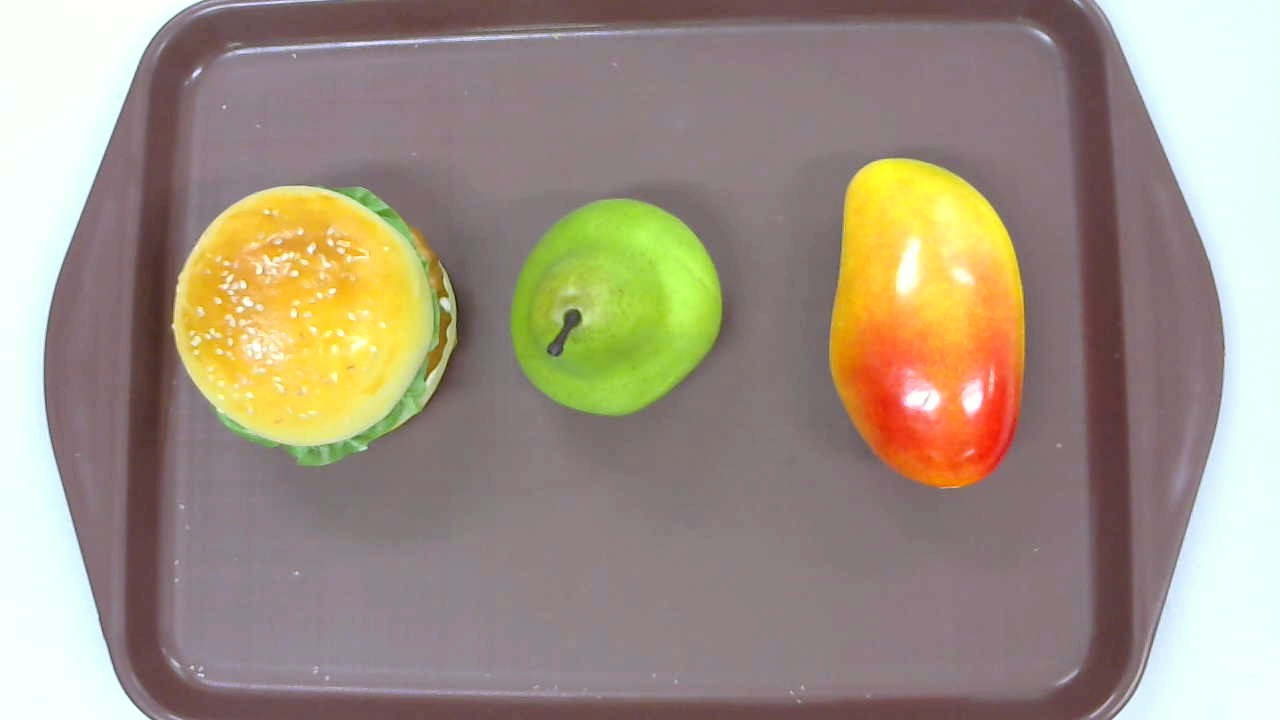green pear: (509, 197, 722, 418)
hamburger: (170, 184, 457, 466)
red mango: (829, 158, 1024, 489)
